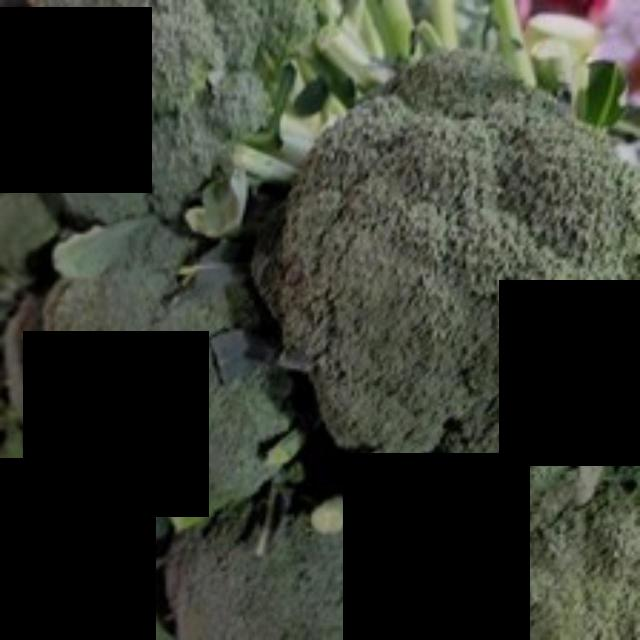broccoli: (266, 60, 636, 491)
